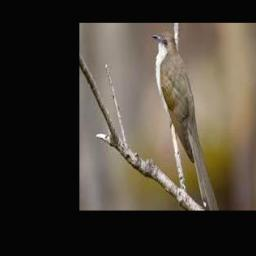Cuckoo: (151, 32, 218, 211)
